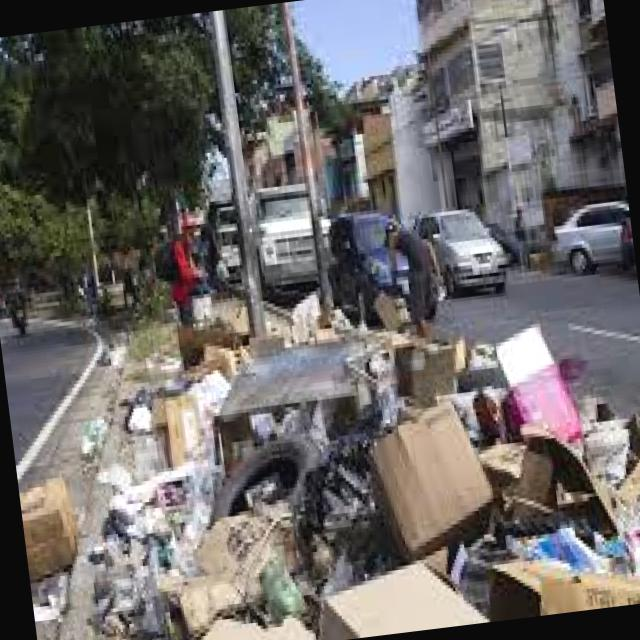garbage: (13, 302, 640, 640)
